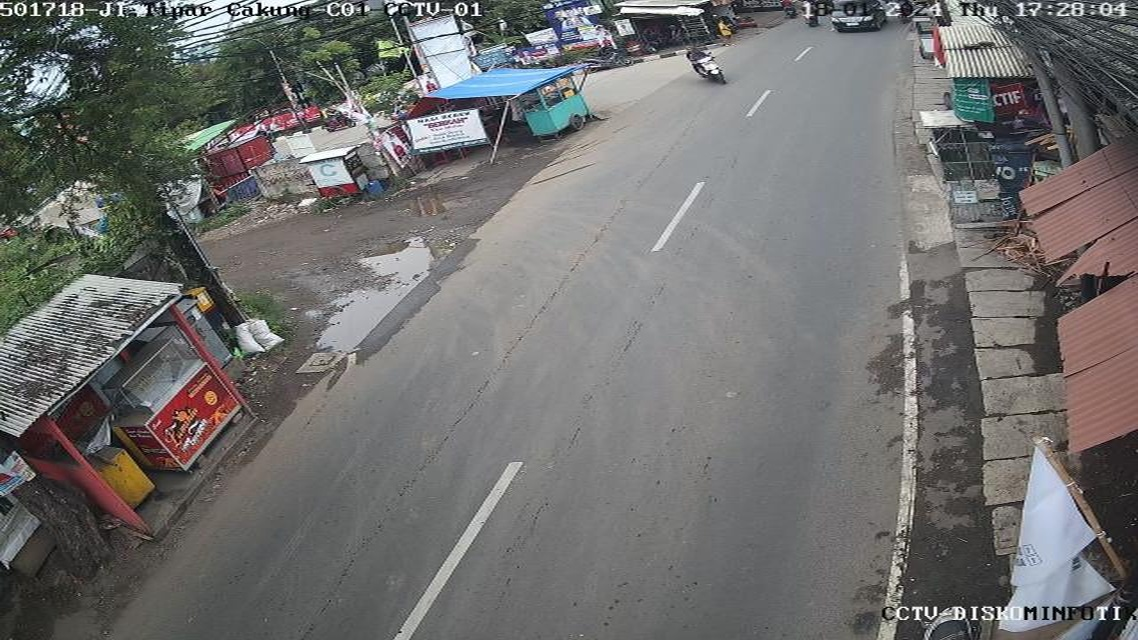Gerobak: (53, 346, 258, 484), (494, 69, 624, 149), (371, 105, 492, 176), (301, 148, 381, 218)
